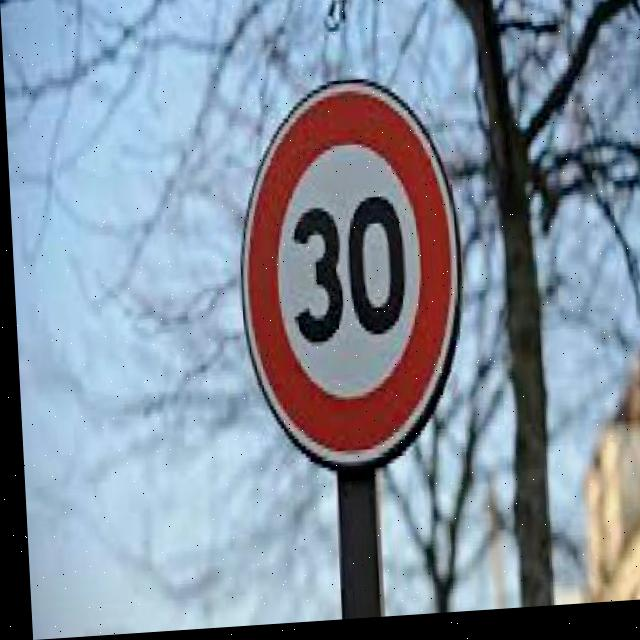Speed limit 30: (226, 74, 472, 483)
